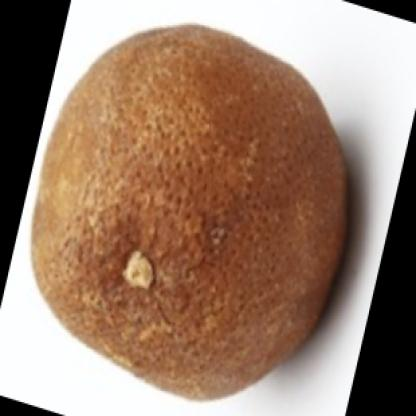rotten: (33, 24, 349, 402)
